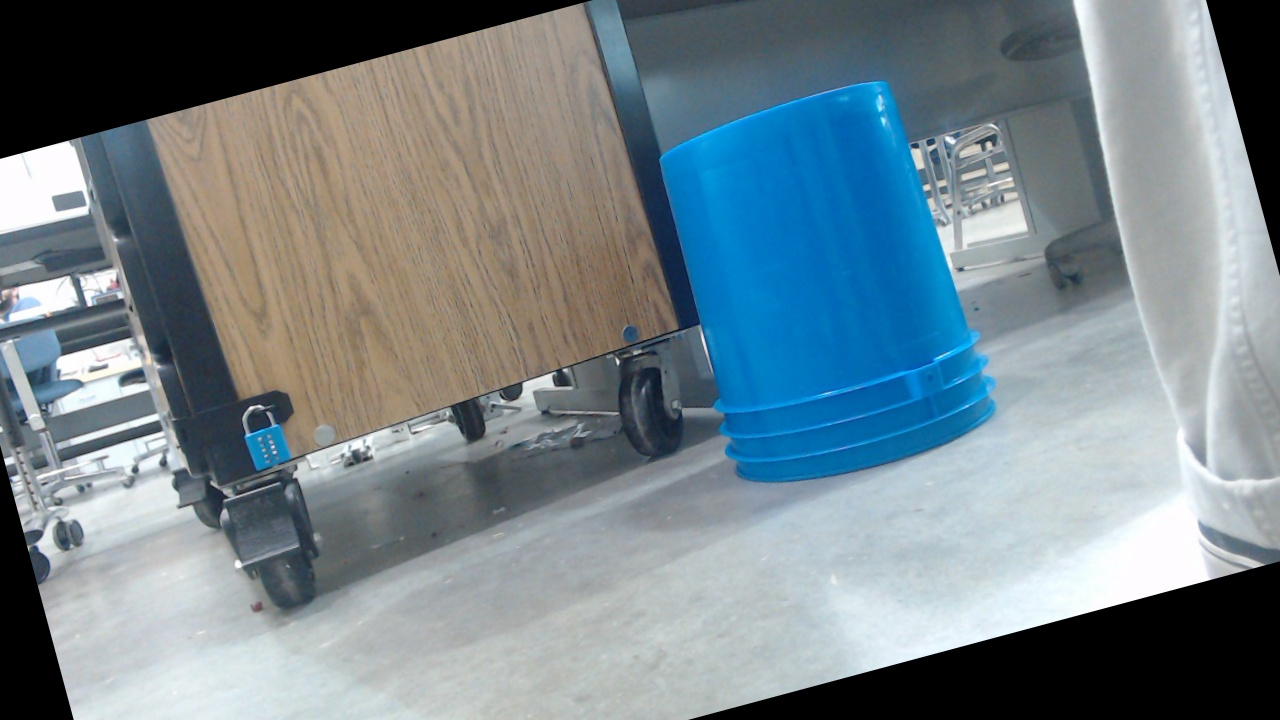blue_bucket: (650, 169, 1032, 619)
